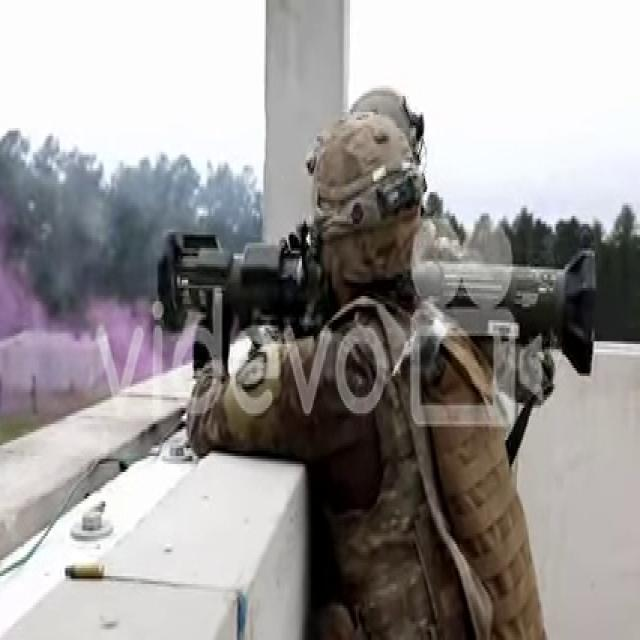bazooka: (157, 215, 603, 385)
